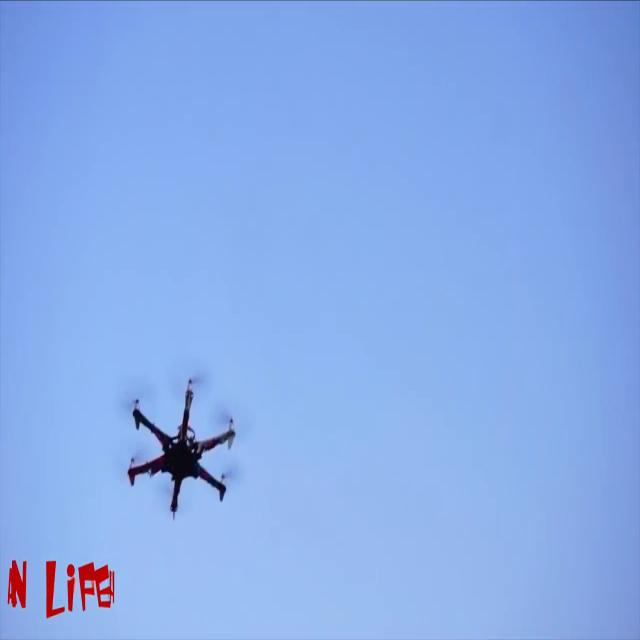drone: (130, 368, 237, 542)
